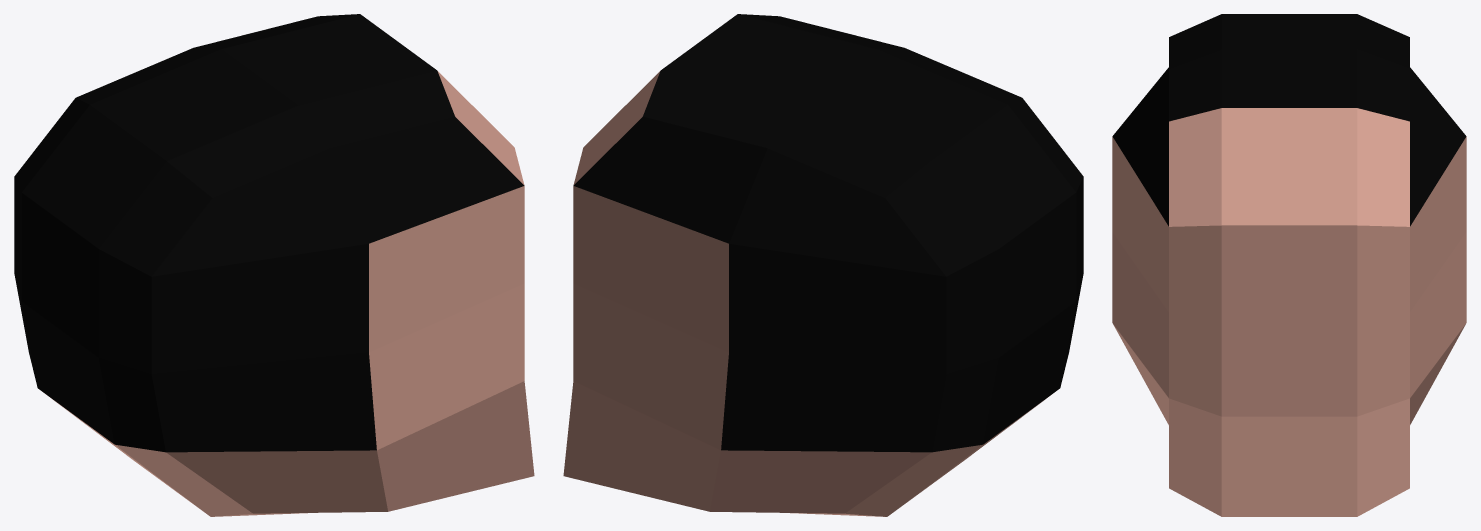
Rendered from head_normal.glb.
3 renders of one model, left to right at view 1: azimuth 30°, elevation 25°; view 2: azimuth 150°, elevation 25°; view 3: azimuth 270°, elevation 25°, orthographic. The views are drawn at different scales.
Parts seen in each view (by area): view 1: Head; view 2: Head; view 3: Head.
Part boxes in pixels (<box>): Head: <box>14,14,534,516</box>; Head: <box>563,14,1083,516</box>; Head: <box>1112,14,1466,516</box>.
Bounding box in the file's own units: 2.05 × 1.94 × 1.68.
1 material, 1 textured.
